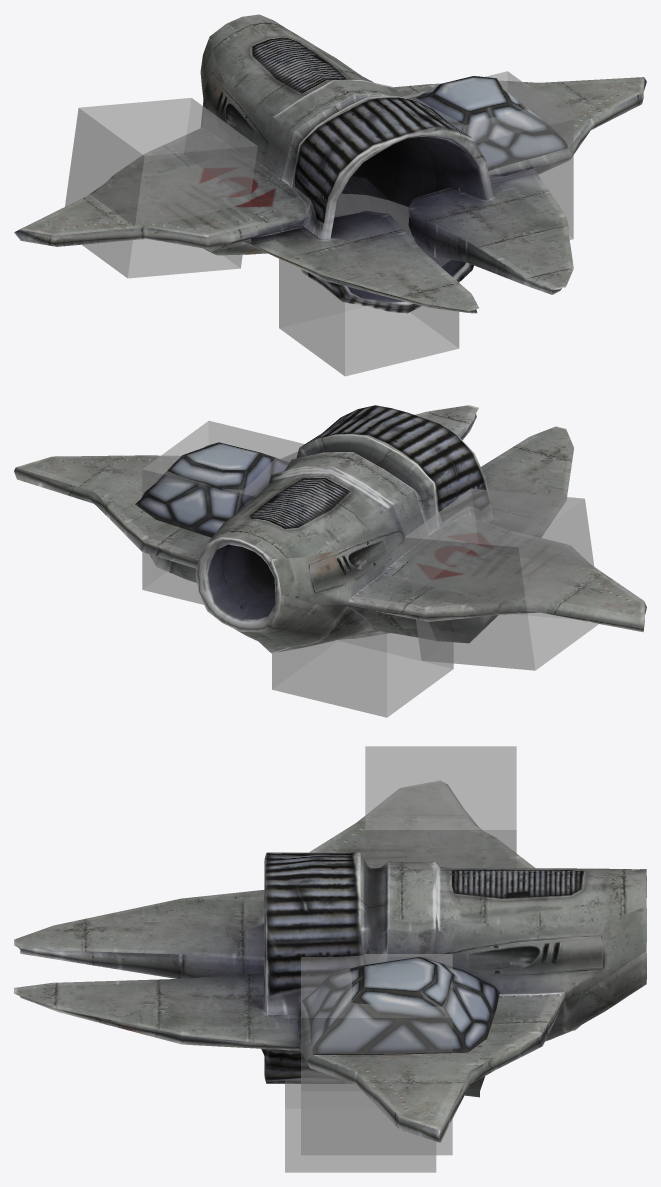
The model's file is Ship_Player.fbx.
3 views of the same model, one above another, from view 1: azimuth 30°, elevation 25°; view 2: azimuth 150°, elevation 25°; view 3: azimuth 270°, elevation 25° (orthographic). The views are drawn at different scales.
Visible parts, largest first — view 1: Ship_Player, Attach_RIGHT, Attach_Bottom, Attach_LEFT; view 2: Ship_Player, Attach_RIGHT, Attach_Bottom, Attach_LEFT; view 3: Ship_Player, Attach_LEFT, Attach_RIGHT, Attach_Bottom.
Boxes of the visible parts, x1,y1,x2,y2 form: Ship_Player: [14, 14, 646, 313]; Attach_RIGHT: [65, 98, 257, 278]; Attach_Bottom: [279, 194, 459, 376]; Attach_LEFT: [402, 71, 573, 239]; Ship_Player: [14, 405, 646, 653]; Attach_RIGHT: [404, 488, 598, 670]; Attach_Bottom: [272, 633, 453, 717]; Attach_LEFT: [142, 421, 304, 604]; Ship_Player: [14, 780, 646, 1142]; Attach_LEFT: [301, 954, 452, 1155]; Attach_RIGHT: [365, 746, 516, 867]; Attach_Bottom: [285, 1078, 436, 1172].
Size of the model in its own units: 550 by 202 by 418.
